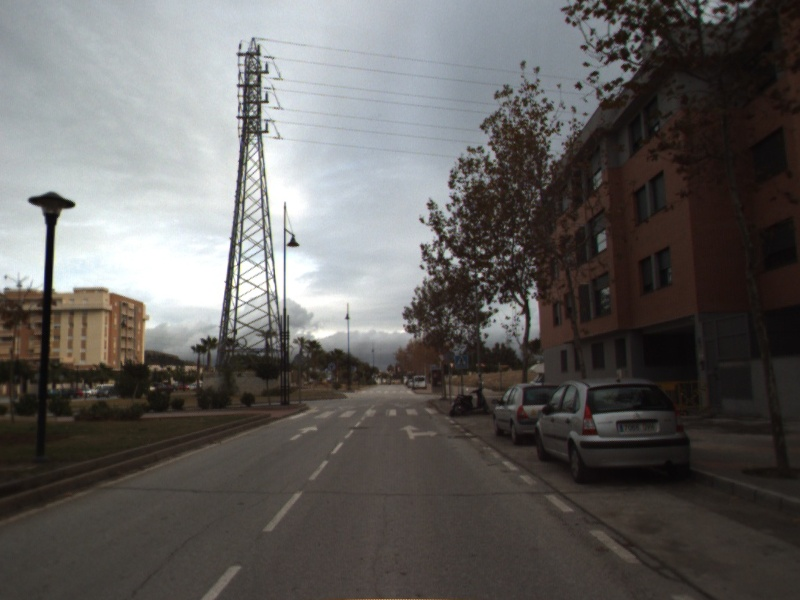STRAIGHT: (287, 422, 320, 442)
STRAIGHT_RIGHT: (397, 422, 440, 441)
